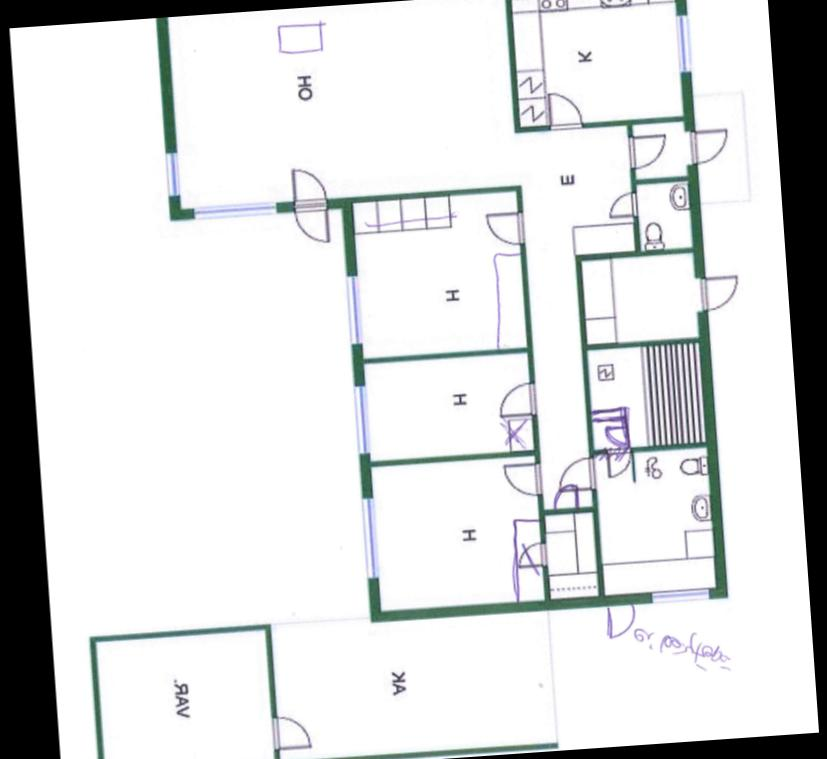door: (285, 197, 335, 252), (284, 156, 329, 211), (691, 268, 742, 313), (540, 87, 586, 134), (478, 208, 532, 248), (682, 126, 738, 164), (554, 453, 602, 494), (624, 129, 671, 170), (500, 460, 545, 502), (496, 378, 540, 420), (267, 712, 312, 752), (546, 481, 584, 516), (604, 445, 638, 481), (602, 186, 636, 219), (602, 421, 630, 446)
window: (186, 197, 286, 222), (358, 483, 382, 584), (340, 267, 366, 354), (349, 376, 374, 461), (670, 7, 696, 82), (156, 142, 184, 204), (646, 584, 718, 607)
